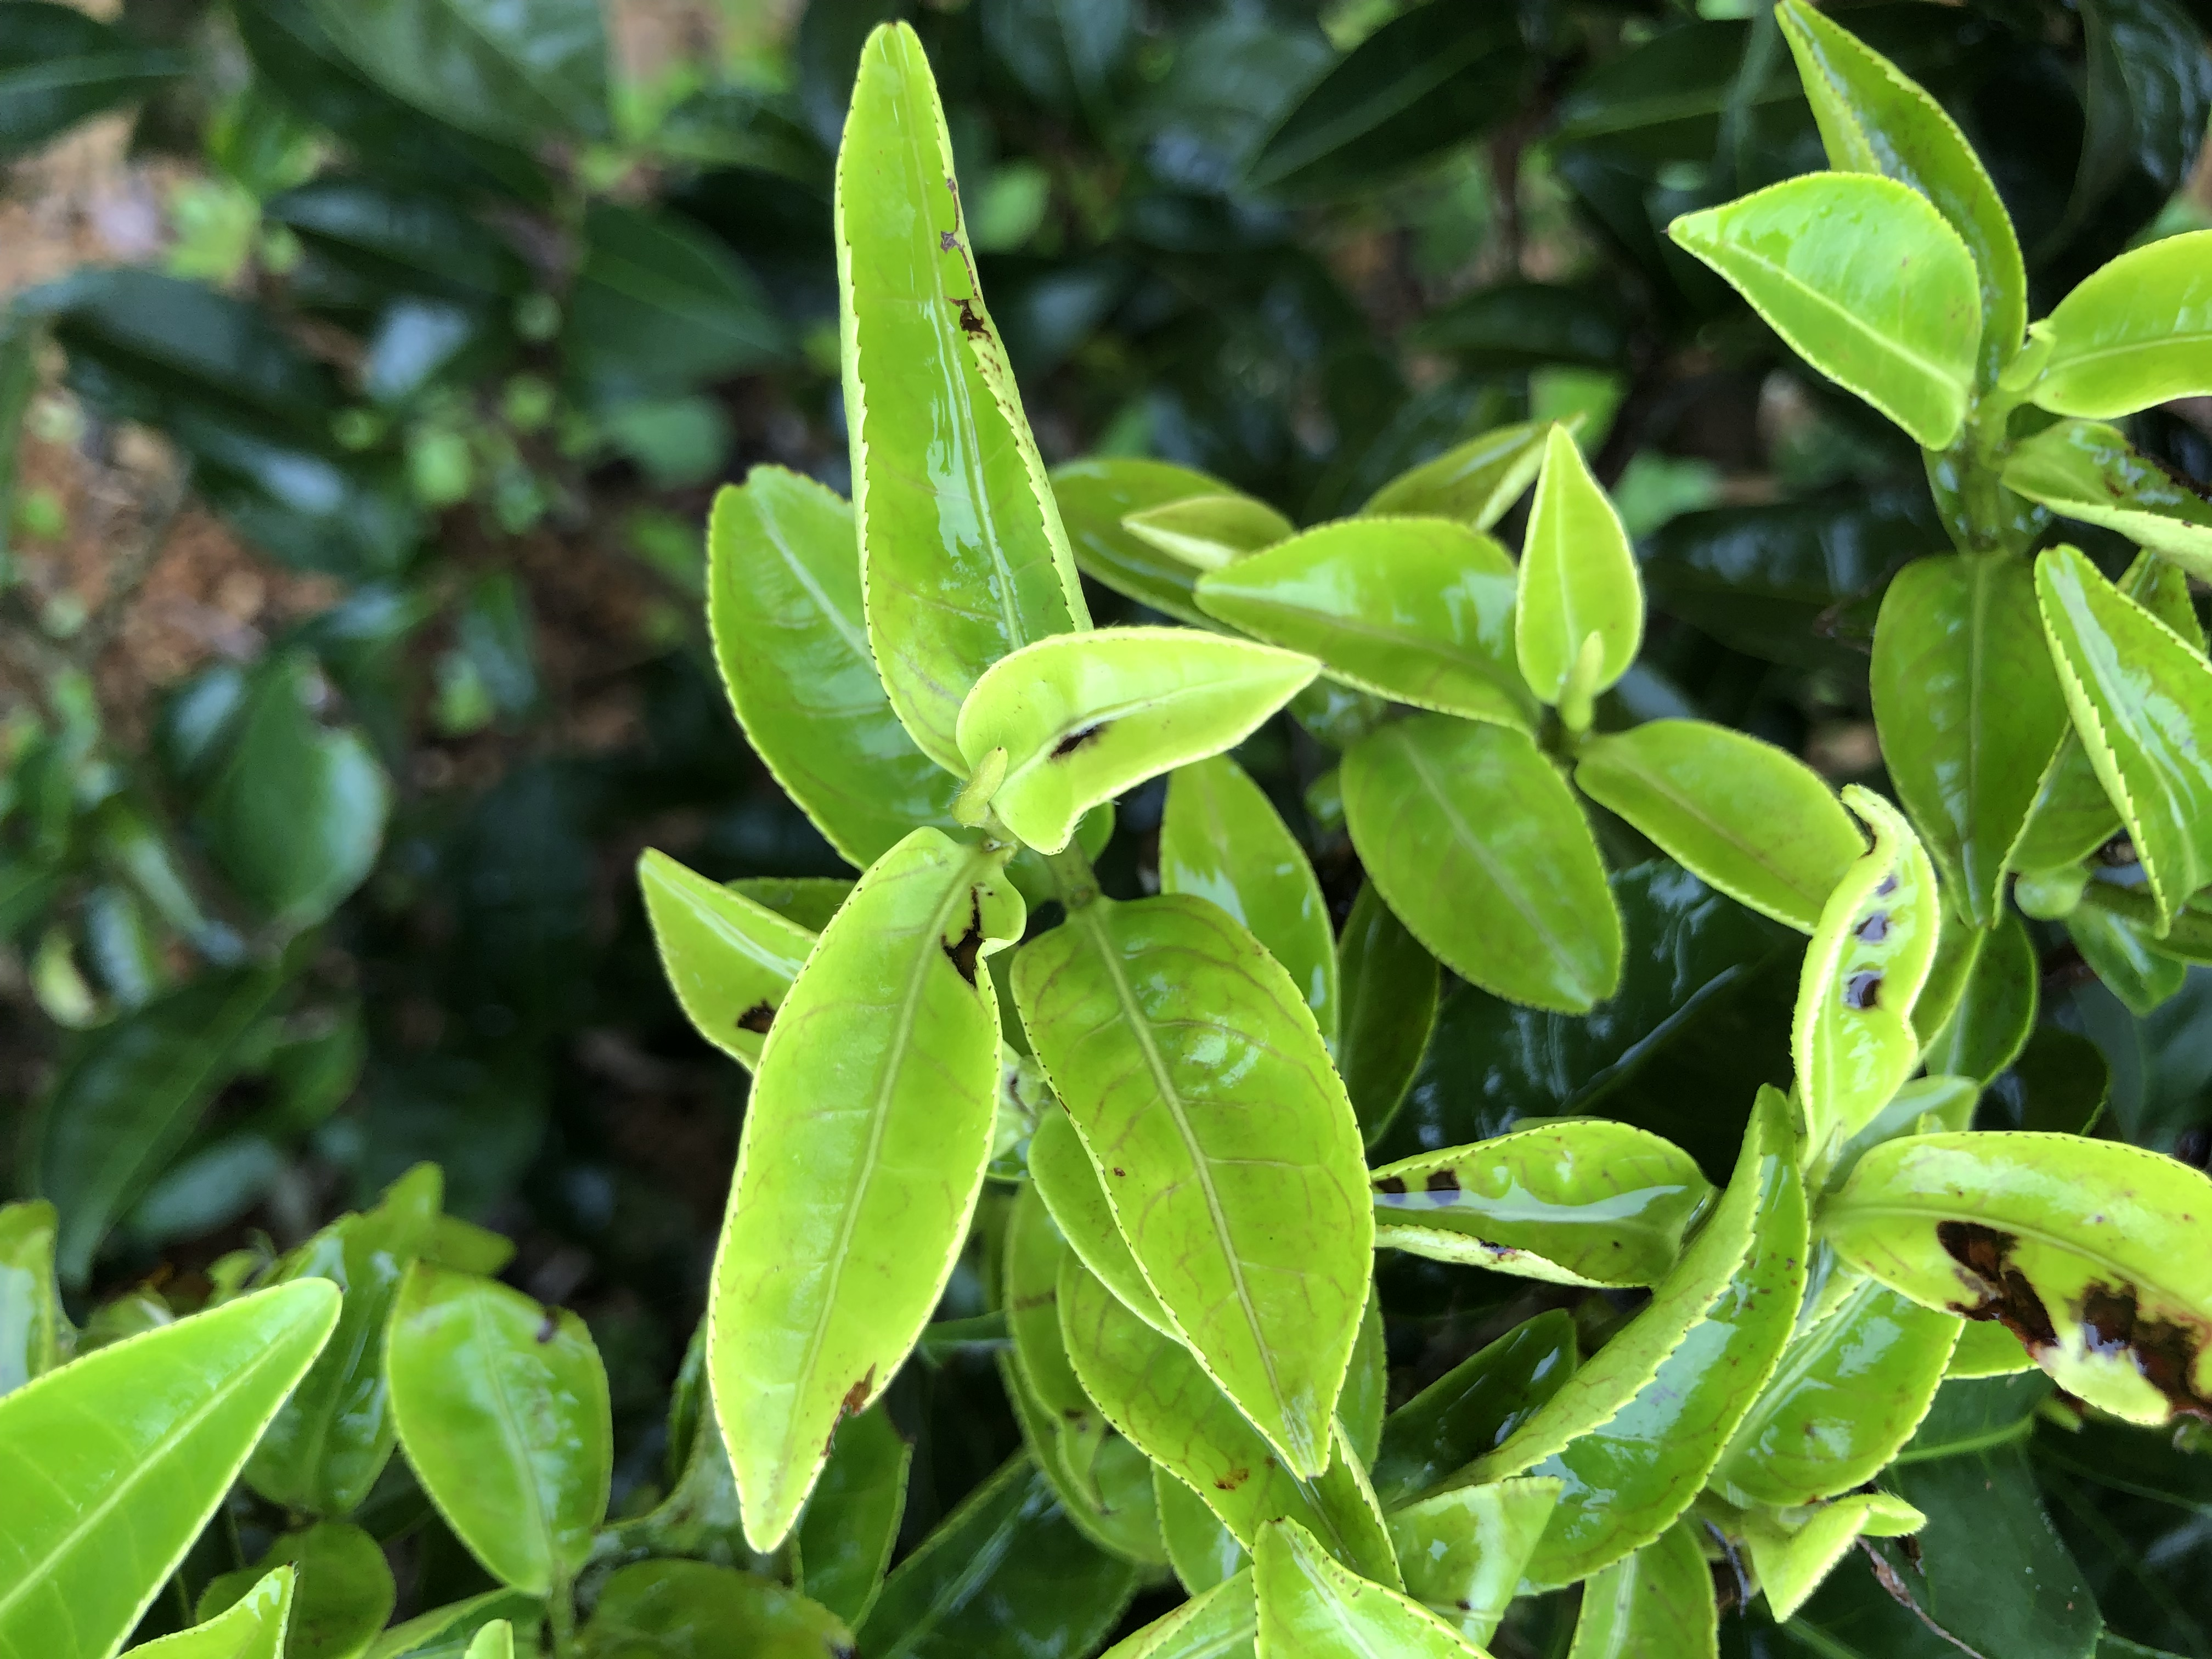formosa: (690, 805, 1010, 1534), (1003, 864, 1388, 1471)
mosquito_early: (1015, 896, 1362, 1457), (834, 63, 1087, 732), (1844, 1127, 2209, 1429), (1353, 1124, 1714, 1262)
mosquito_late: (1780, 816, 1942, 1173)
